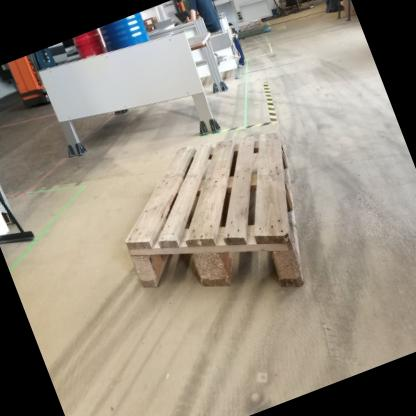BoxFace: (117, 128, 306, 295)
